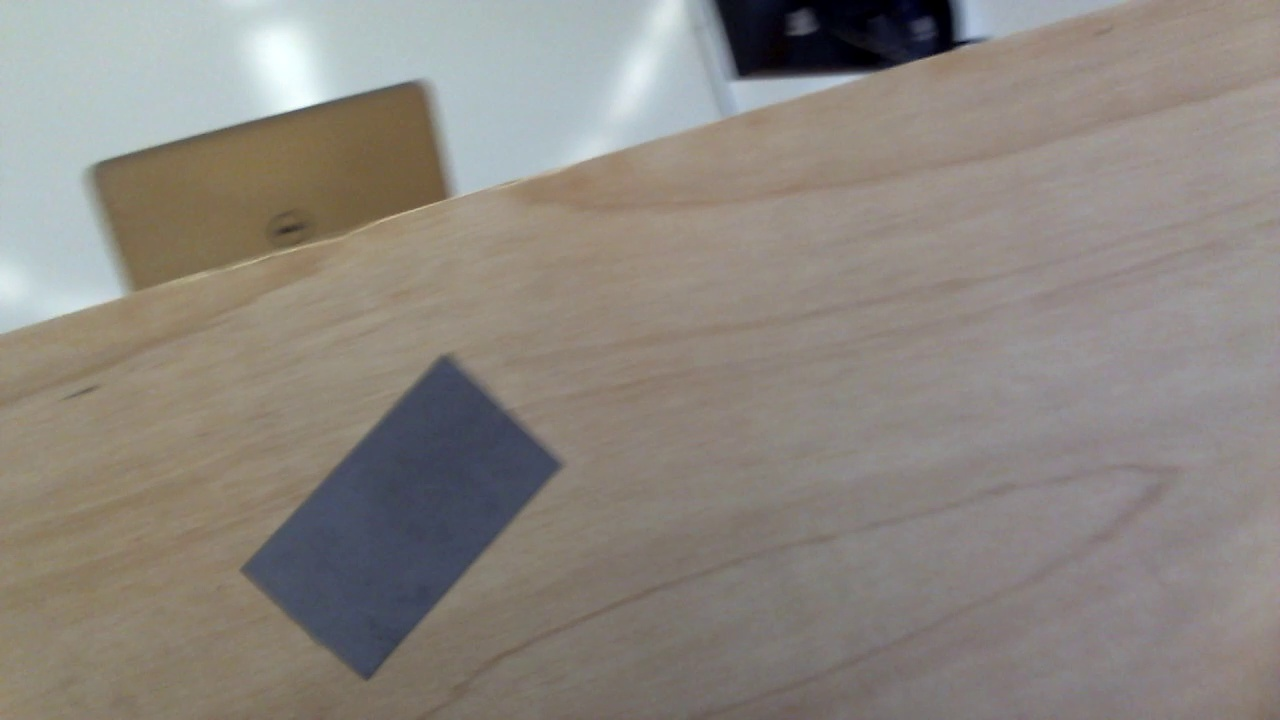Tape: (238, 353, 567, 681)
